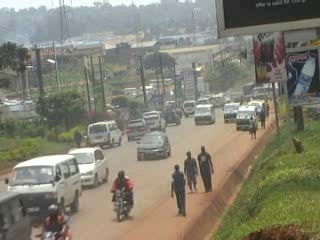Car: (65, 144, 109, 188), (134, 129, 172, 161), (125, 116, 150, 142), (161, 108, 182, 127)
Motorcycle: (108, 168, 136, 222), (34, 201, 73, 237)
